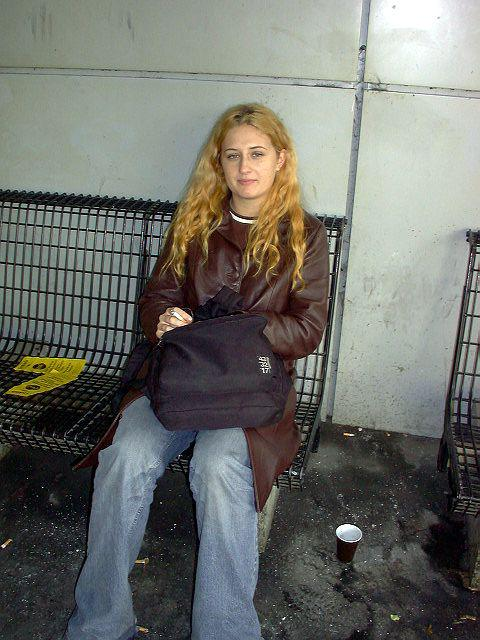Person: (78, 105, 331, 640)
